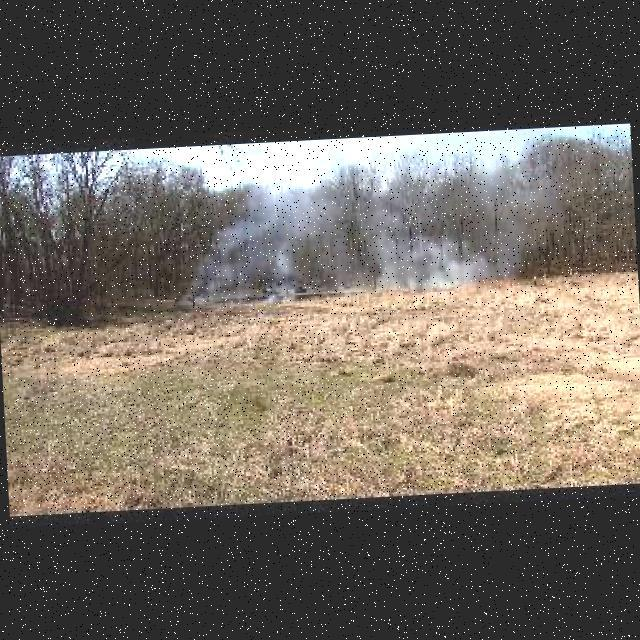Fire: (497, 279, 505, 287), (508, 278, 514, 284)
Smoke: (205, 175, 337, 287), (378, 215, 502, 302)
